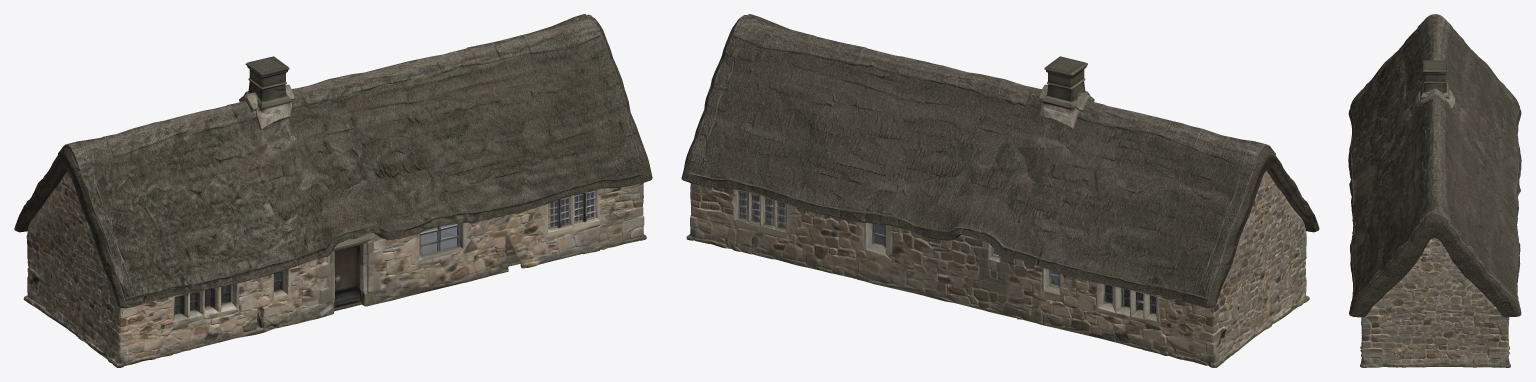
File: cottage_stang_end_a.meshy.reduced.glb
3 views of the same model, side by side, from view 1: azimuth 30°, elevation 25°; view 2: azimuth 150°, elevation 25°; view 3: azimuth 270°, elevation 25° (orthographic). The views are drawn at different scales.
Size of the model in its own units: 1.9 by 0.7475 by 0.6715.
1 material, 1 textured.
